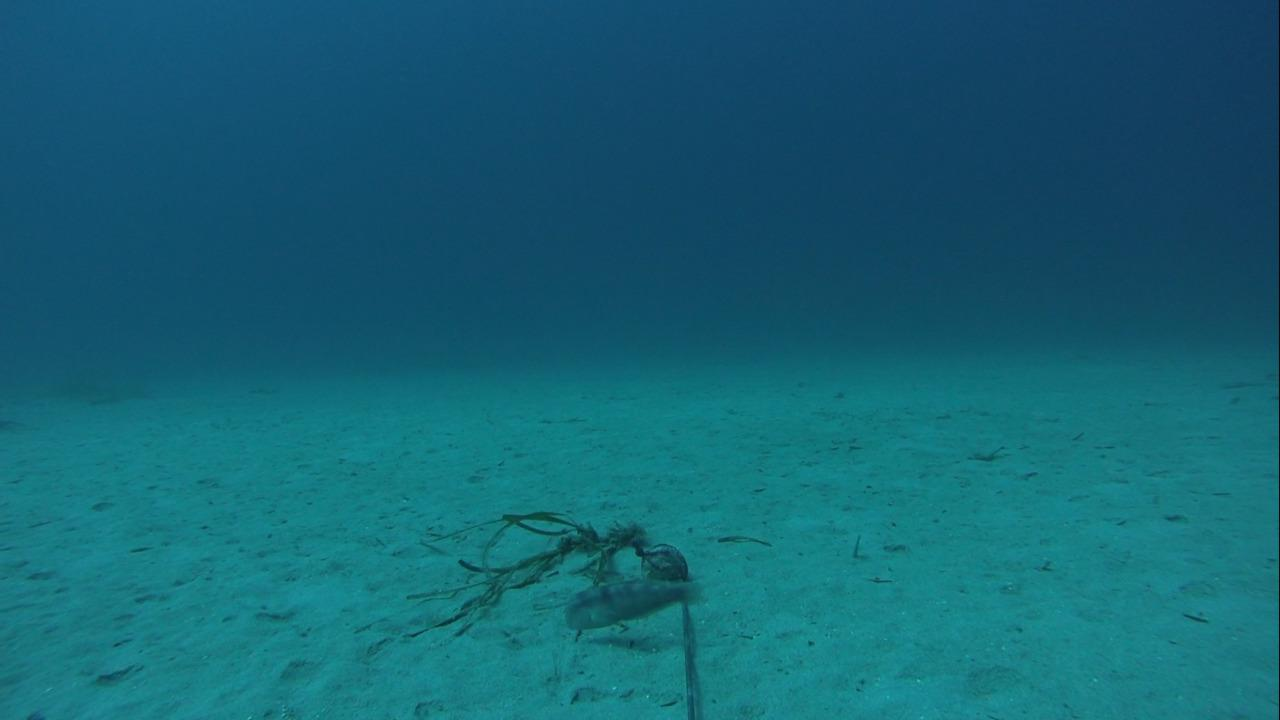raor: (563, 576, 704, 630)
